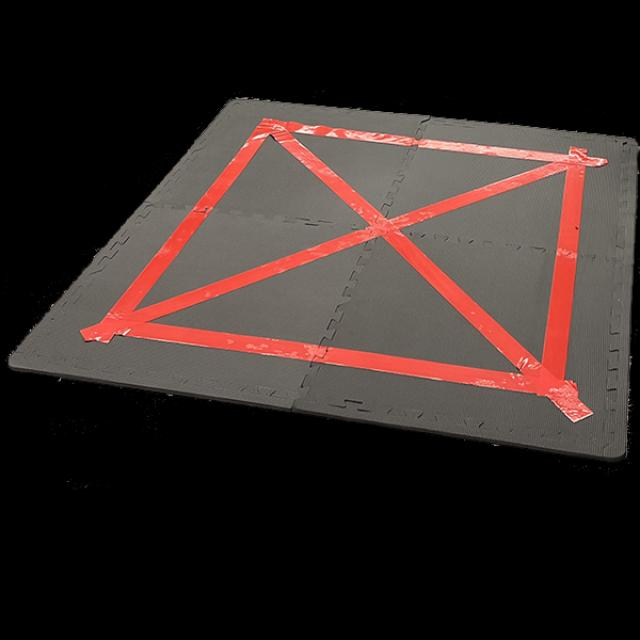landingPads: (7, 96, 640, 460)
